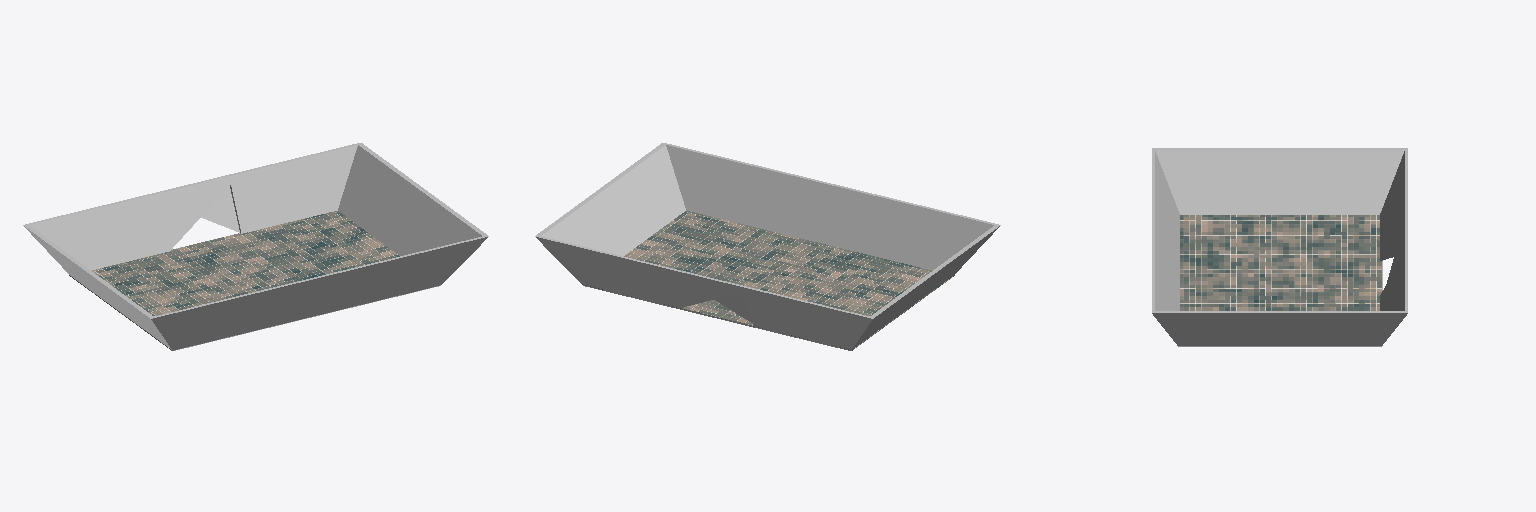
3 renders of one model, left to right at view 1: azimuth 30°, elevation 25°; view 2: azimuth 150°, elevation 25°; view 3: azimuth 270°, elevation 25°, orthographic.
Visible parts, largest first — view 1: Room14, Piso1; view 2: Room14, Piso1; view 3: Room14, Piso1.
Boxes of the visible parts, box(x1,y1,x2,y2) form: Room14: box(23, 143, 488, 350); Piso1: box(69, 211, 399, 349); Room14: box(535, 143, 1000, 350); Piso1: box(582, 211, 954, 350); Room14: box(1152, 148, 1407, 346); Piso1: box(1180, 215, 1381, 310).
Size of the model in its own units: 35 by 5 by 23.
Materials: 3 (1 with a texture image).